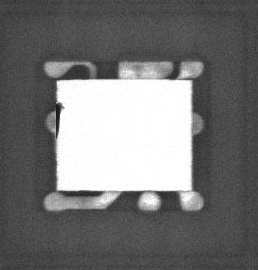DIE_BROKEN: (53, 99, 64, 138)
